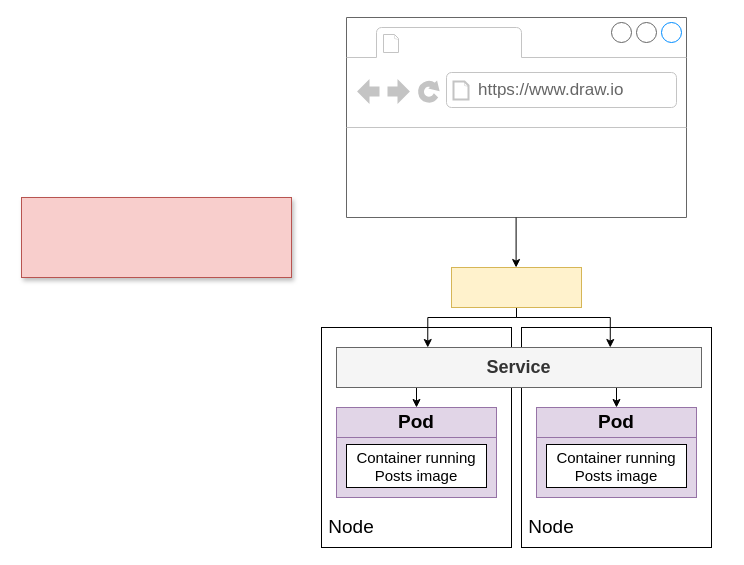
The diagram is 744 pixels wide and 565 high, and some of its shapes have lost their labels. The centre of each missing label's shape, as x and y in pixels:
"....and from the outside world to a pod" goes at [157,238].
"Page 1" goes at [461,42].
"Request" goes at [516,287].
